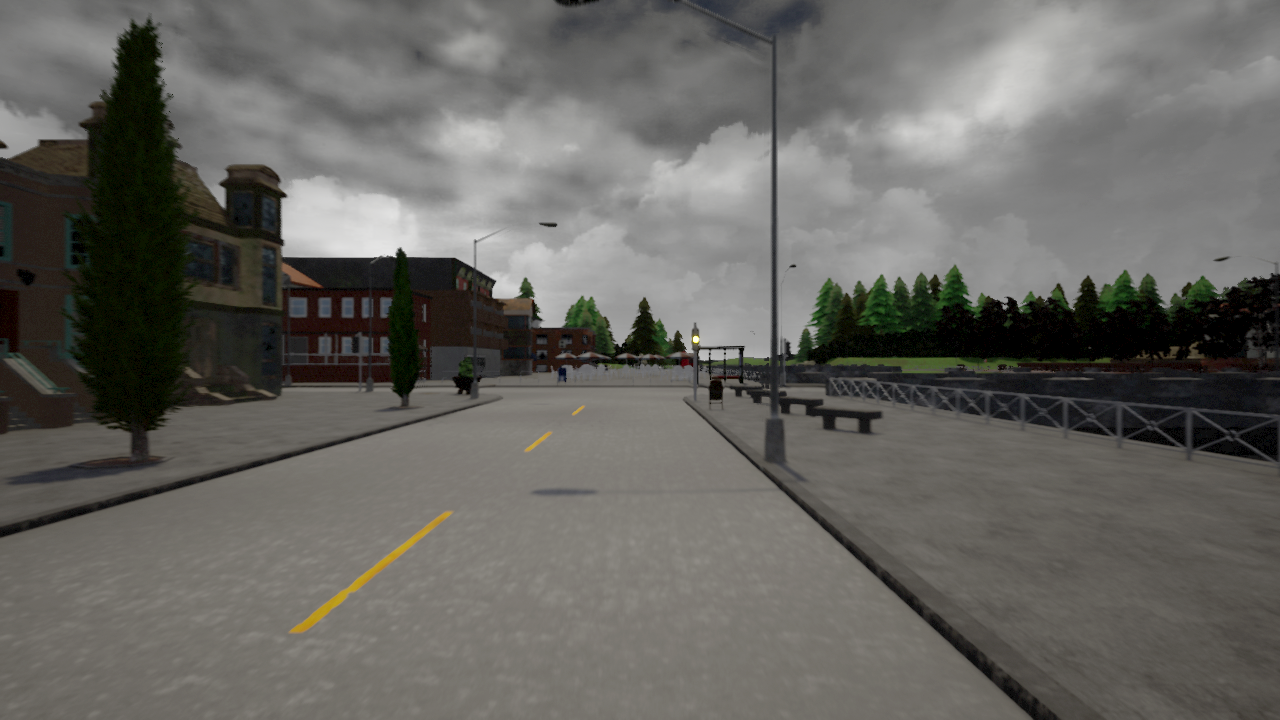yellow: (690, 327, 702, 351)
